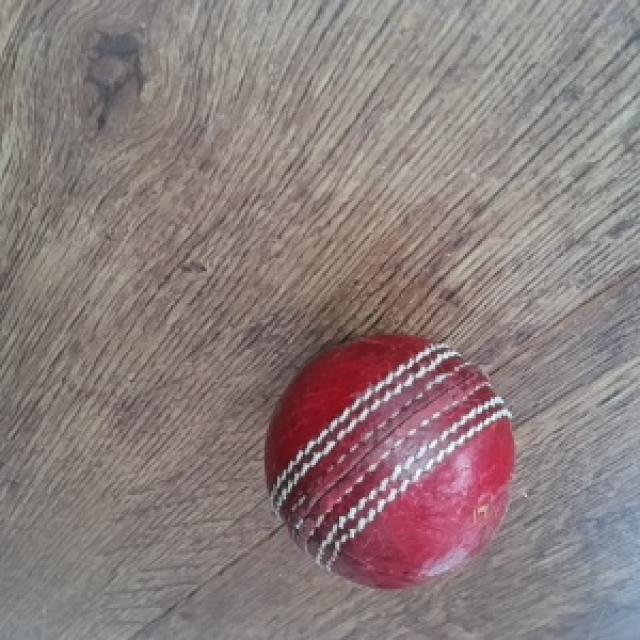ball: (247, 322, 532, 599)
